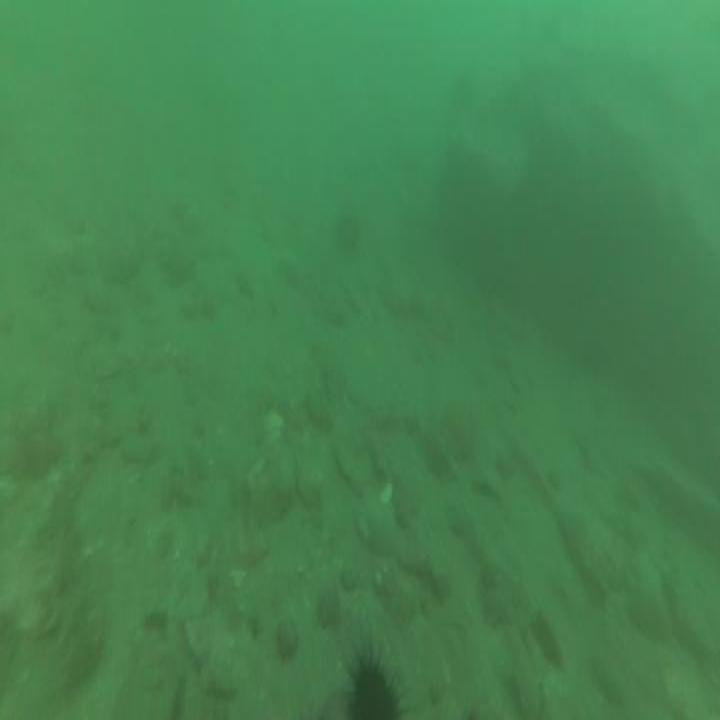echinus: (340, 633, 406, 720), (443, 60, 480, 128), (329, 206, 363, 267)
